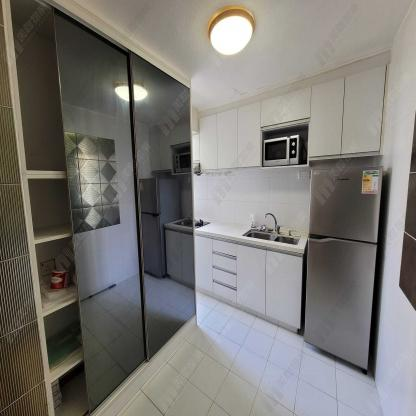Cupboard: (192, 64, 387, 172), (194, 235, 302, 335)
Exhaust Hood: (192, 163, 202, 177)
Faucet: (263, 211, 282, 234)
Fridge: (303, 165, 383, 376)
Microwave: (263, 135, 308, 166)
Sink: (242, 228, 301, 245)
Stove: (194, 216, 212, 229)
